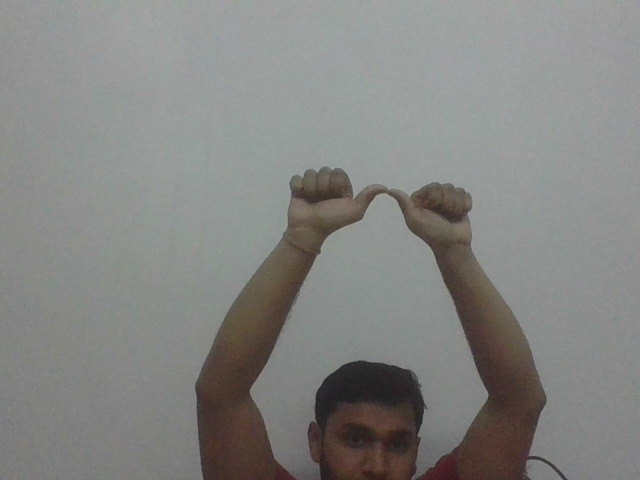A: (284, 168, 483, 244)
